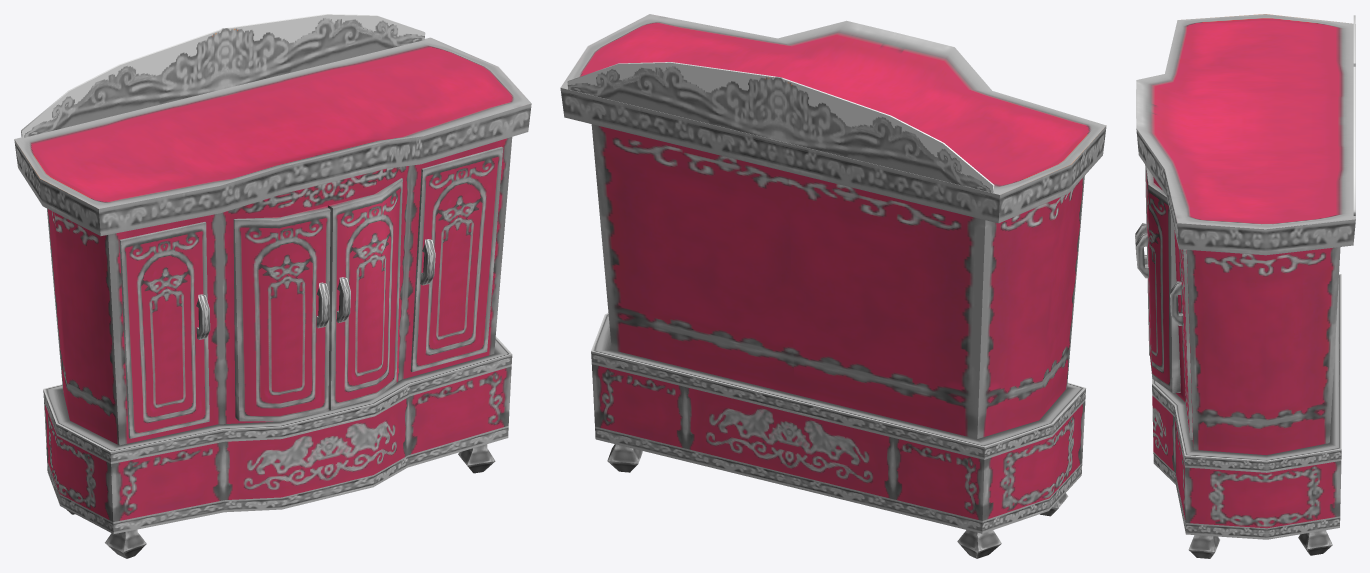
Rendered from QueenCabinet_HD.fbx.
3 views of the same model, side by side, from view 1: azimuth 30°, elevation 25°; view 2: azimuth 150°, elevation 25°; view 3: azimuth 270°, elevation 25° (orthographic). The views are drawn at different scales.
Visible parts, largest first — view 1: QueenCabinet; view 2: QueenCabinet; view 3: QueenCabinet.
Boxes of the visible parts, box(x1,y1,x2,y2) form: QueenCabinet: box(14, 14, 531, 558); QueenCabinet: box(560, 14, 1106, 558); QueenCabinet: box(1135, 14, 1355, 558).
Size of the model in its own units: 1.93 by 1.71 by 0.8367.
